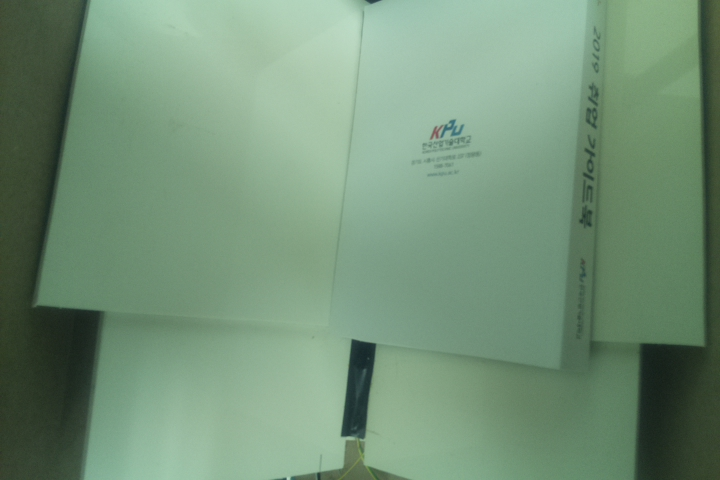book: (329, 1, 615, 374)
